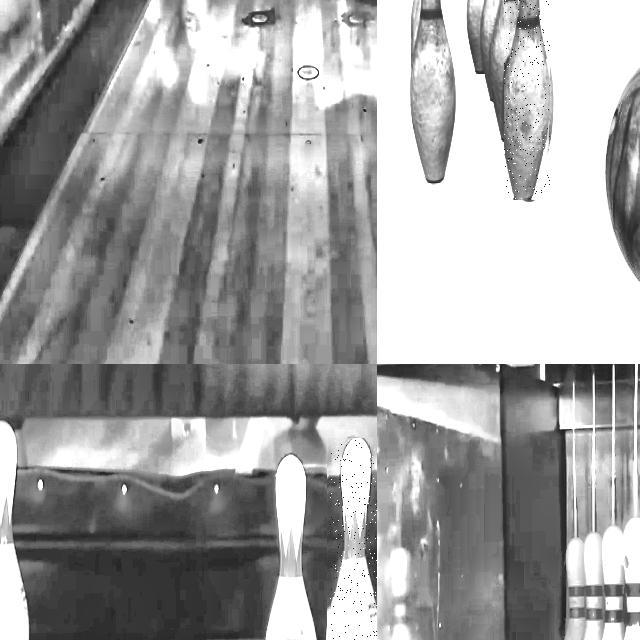bowling-pins: (266, 453, 317, 640), (330, 439, 377, 640), (504, 0, 549, 199), (409, 0, 455, 182), (0, 420, 28, 640), (489, 0, 520, 140), (601, 524, 624, 640), (581, 529, 603, 640), (564, 537, 584, 640), (480, 0, 499, 100), (466, 0, 484, 73), (410, 0, 420, 54)
